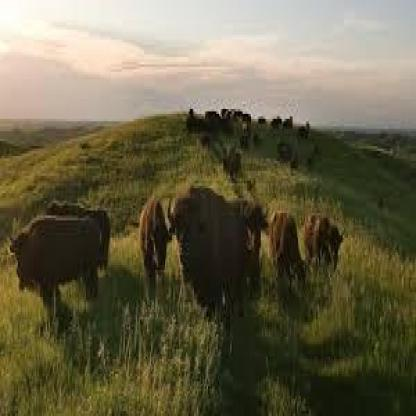cow: (166, 183, 246, 317), (10, 215, 100, 322), (42, 199, 112, 276), (138, 193, 173, 300), (236, 198, 270, 297), (301, 209, 347, 276), (268, 208, 302, 290)
